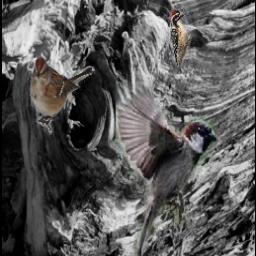Sparrow: (116, 82, 216, 256), (30, 54, 96, 135)
Woodpecker: (169, 10, 191, 75)
